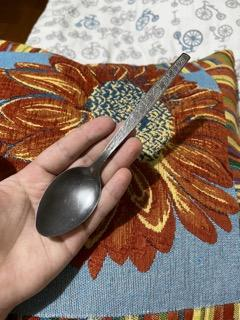spoon: (34, 50, 192, 239)
